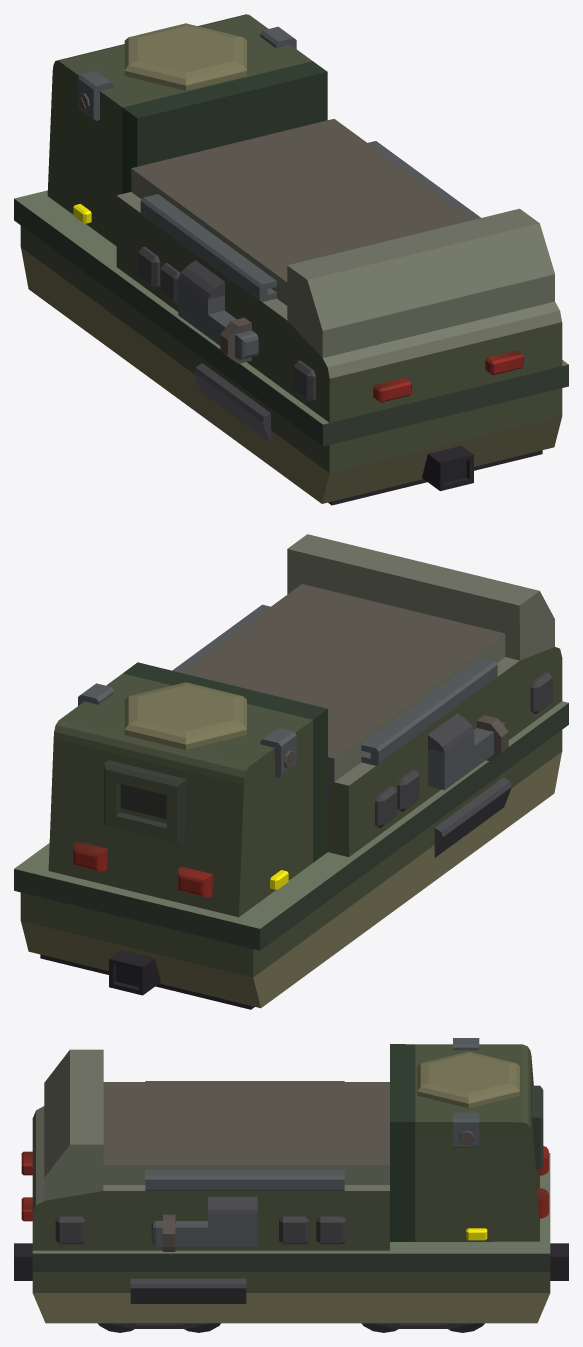
File: mesh_com_1.fbx
The picture shows the model from 3 angles, top to bottom: view 1: azimuth 30°, elevation 25°; view 2: azimuth 150°, elevation 25°; view 3: azimuth 270°, elevation 25°; orthographic projection. The views are drawn at different scales.
Visible parts, largest first — view 1: com_1_base; view 2: com_1_base; view 3: com_1_base.
Boxes of the visible parts, bbox=[...] form: com_1_base: bbox=[14, 14, 568, 505]; com_1_base: bbox=[14, 534, 568, 1009]; com_1_base: bbox=[14, 1038, 568, 1332].
Size of the model in its own units: 4.12 by 3.74 by 8.39.
